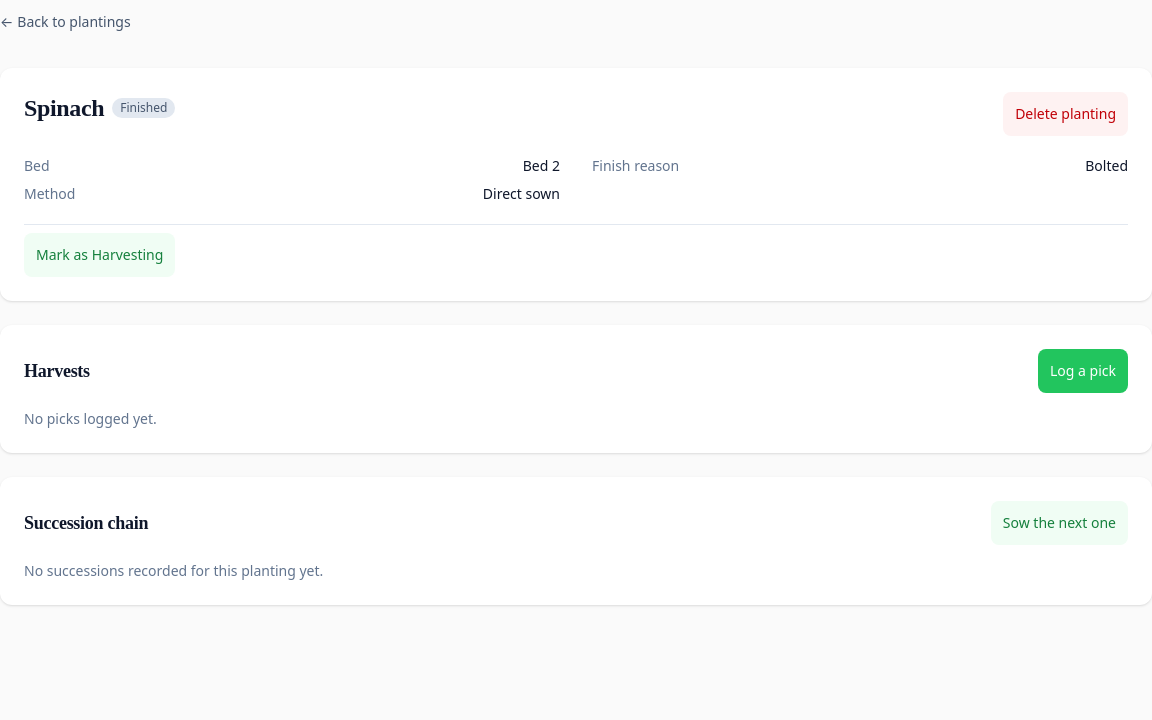
Test: PlantingDetail › logging a pick against a finished planting reopens it, in the database and in the UI
The width and height of the screenshot is (1152, 720).
Expected: the heading "Spinach" is shown, [24,92,104,124]
Expected: the text "Finished" is shown, [112,98,175,118]
Click the button "Log a pick".
click(1083, 371)  # box [1038,349,1128,393]
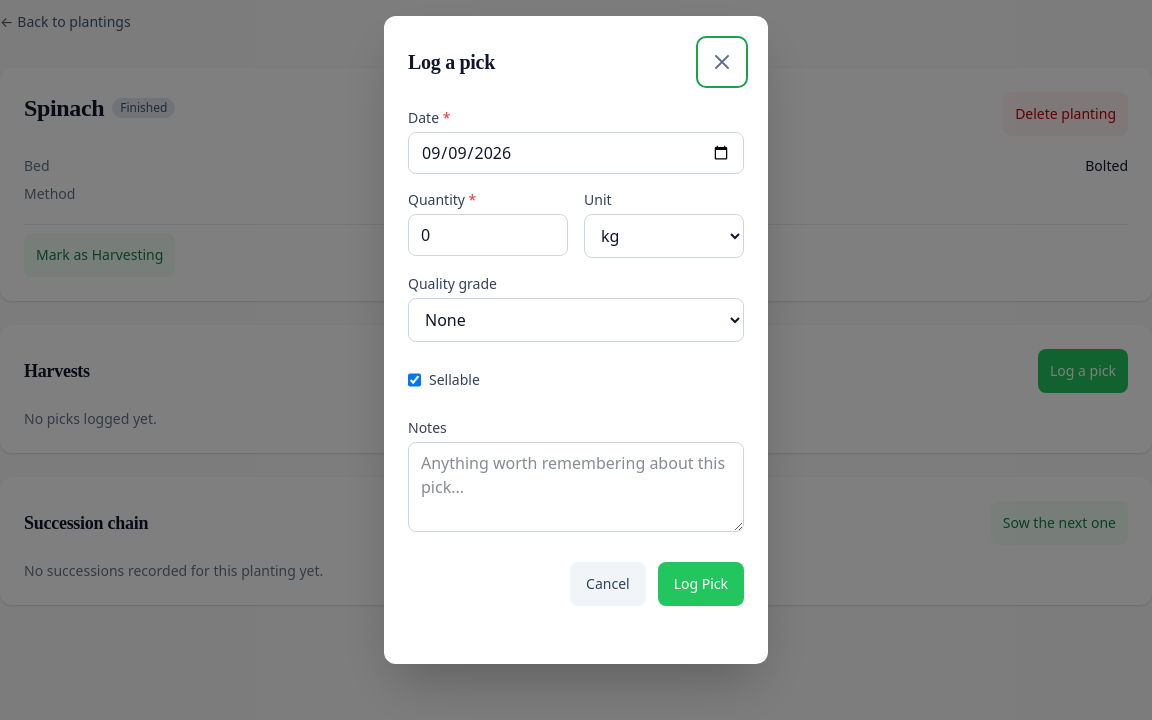
Replace the text in the number field labelled "Quantity *" with "1" at (488, 235), box [408,214,568,256]
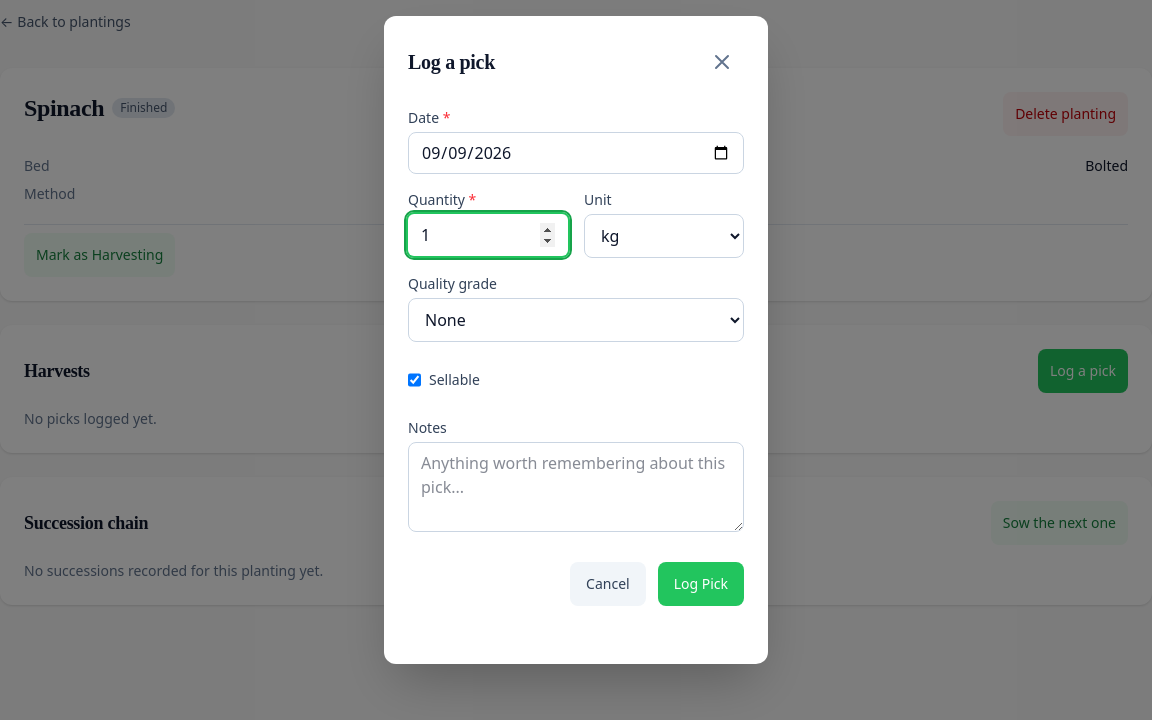
Click the button "Log Pick".
click(701, 584)  # box [658,562,744,606]
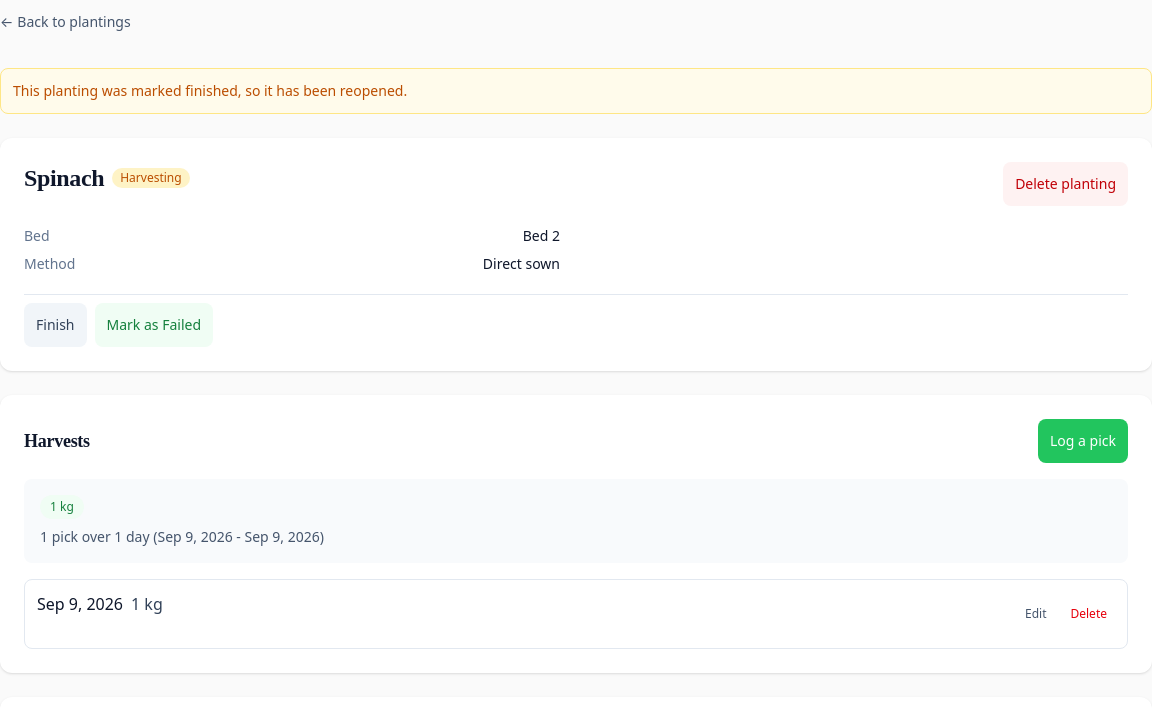
Expected: the text "This planting was marked finished, so it has been reopened." is shown, [0,68,1151,114]
Expected: the text "Harvesting" is shown, [112,168,190,188]
